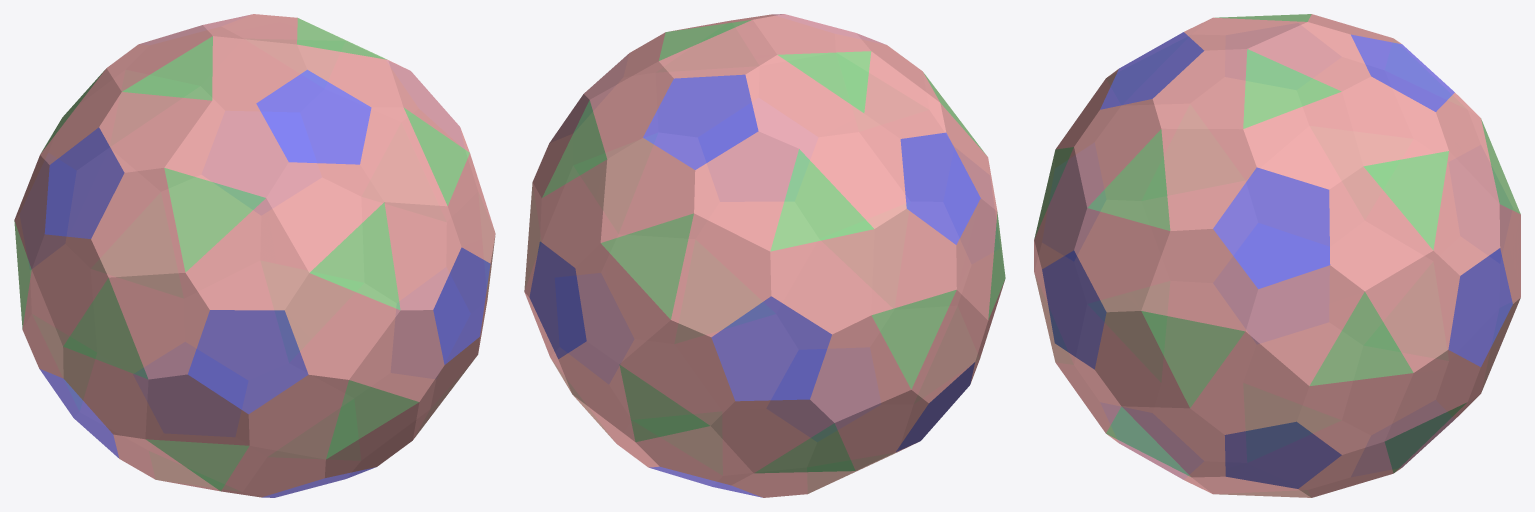
Rendered from BiscribedOrthotruncatedPropelloIcosahedron.obj.
The picture shows the model from 3 angles, left to right: view 1: azimuth 30°, elevation 25°; view 2: azimuth 150°, elevation 25°; view 3: azimuth 270°, elevation 25°; orthographic projection.
Size of the model in its own units: 2.04 by 2.04 by 2.04.
